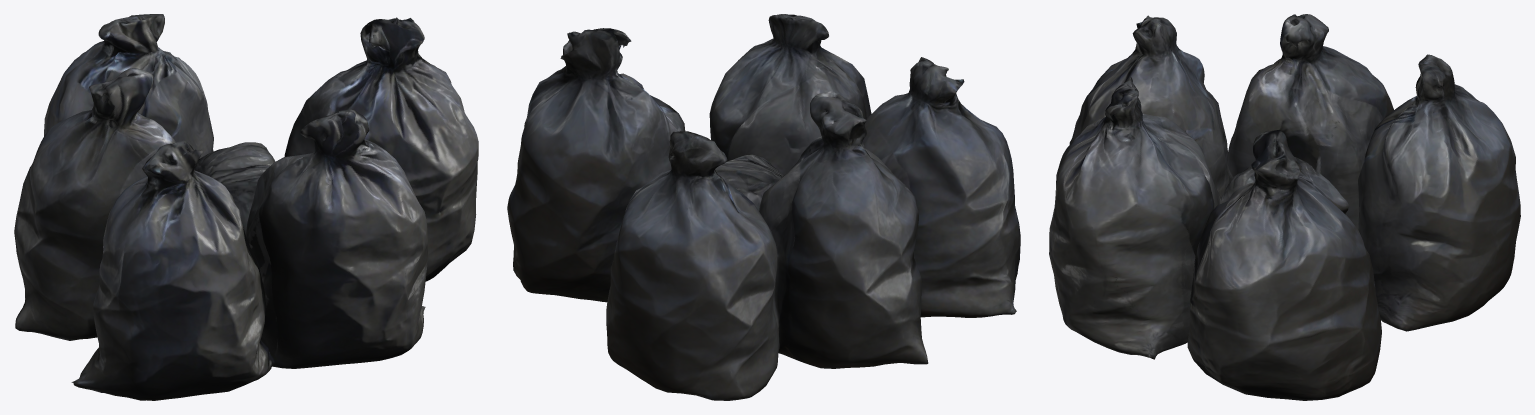
File: low_poly_small_trash__0226151540.fbx
The picture shows the model from 3 angles, left to right: view 1: azimuth 30°, elevation 25°; view 2: azimuth 150°, elevation 25°; view 3: azimuth 270°, elevation 25°; orthographic projection.
Visible parts, largest first — view 1: Mesh_0; view 2: Mesh_0; view 3: Mesh_0.
Part boxes in pixels (x1,y1,x2,y2): Mesh_0: (14, 14, 478, 400); Mesh_0: (507, 14, 1020, 400); Mesh_0: (1049, 14, 1520, 400).
Bounding box in the file's own units: 196 × 103 × 182.
Materials: 1 (1 with a texture image).
